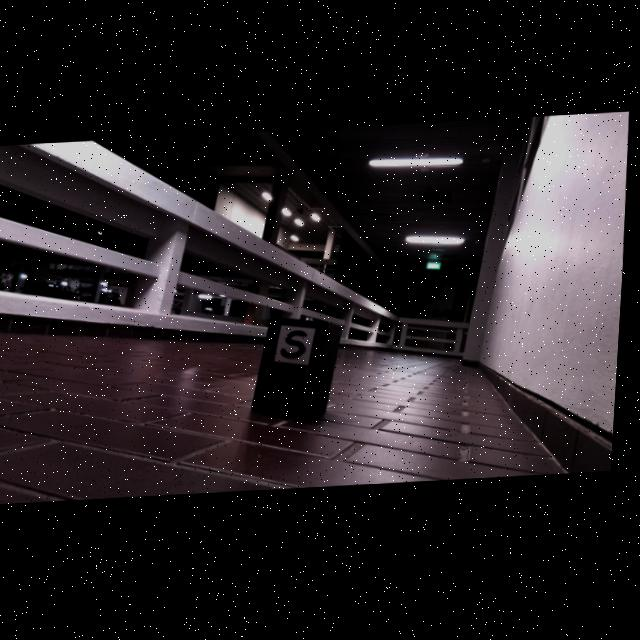S: (285, 333, 309, 361)
